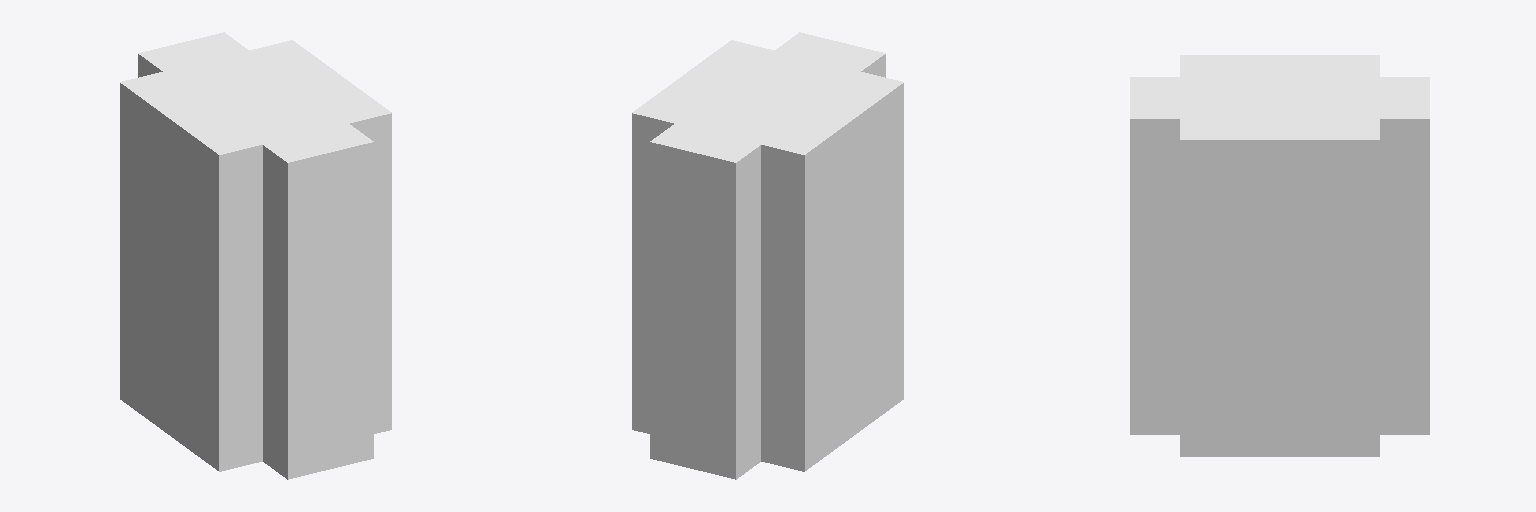
The model's file is female-61.obj.
3 views of the same model, side by side, from view 1: azimuth 30°, elevation 25°; view 2: azimuth 150°, elevation 25°; view 3: azimuth 270°, elevation 25° (orthographic).
Parts seen in each view (by area): view 1: object 1; view 2: object 1; view 3: object 1.
Boxes of the visible parts, x1=… form: object 1: x1=120, y1=32, x2=391, y2=479; object 1: x1=632, y1=32, x2=903, y2=479; object 1: x1=1130, y1=55, x2=1429, y2=456.
Size of the model in its own units: 0.4 by 0.7 by 0.6.